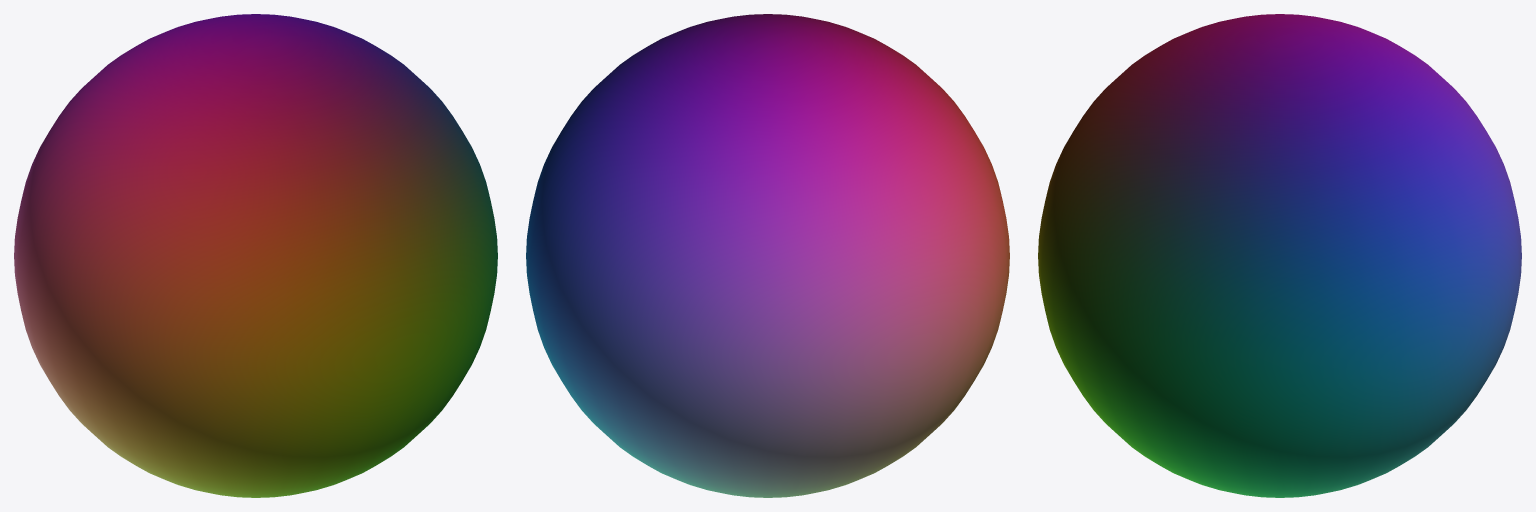
The model's file is zeometry-basic-shapes-sphere_v3.glb.
3 renders of one model, left to right at view 1: azimuth 30°, elevation 25°; view 2: azimuth 150°, elevation 25°; view 3: azimuth 270°, elevation 25°, orthographic.
Visible parts, largest first — view 1: Sphere_v3; view 2: Sphere_v3; view 3: Sphere_v3.
Part boxes in pixels (x1,y1,x2,y2): Sphere_v3: (14, 14, 497, 497); Sphere_v3: (526, 14, 1009, 497); Sphere_v3: (1038, 14, 1521, 497).
Bounding box in the file's own units: 0.5 × 0.5 × 0.5.
